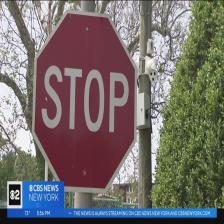Stop-sign: (30, 6, 140, 194)
